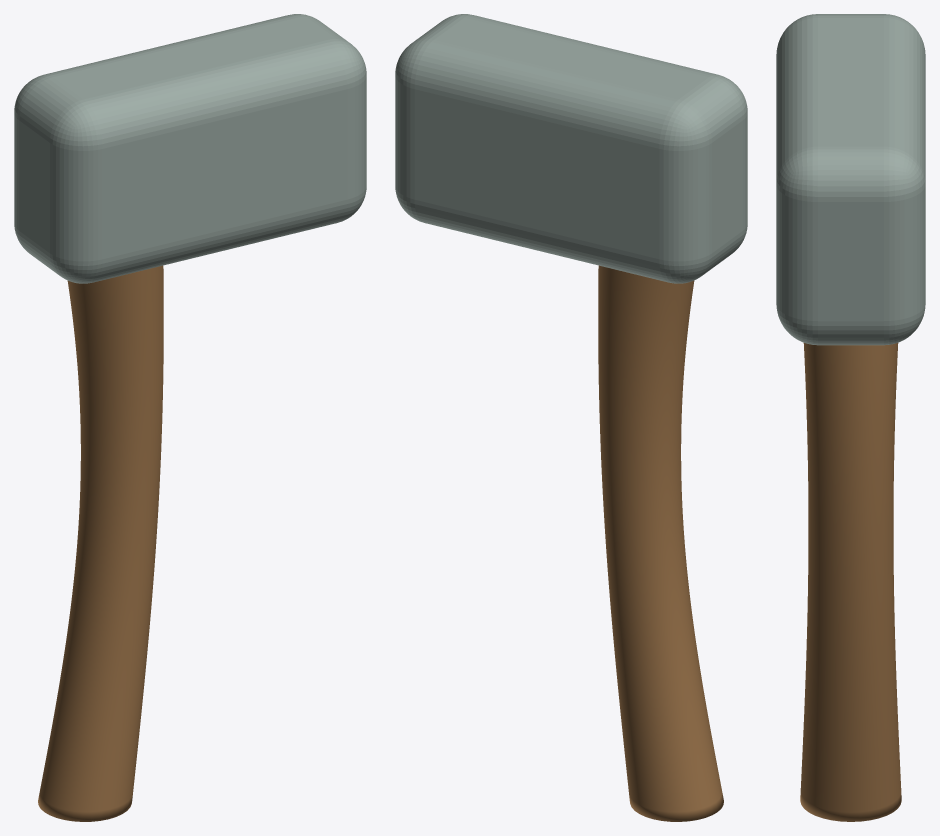
The model's file is direct-7000.glb.
3 views of the same model, side by side, from view 1: azimuth 30°, elevation 25°; view 2: azimuth 150°, elevation 25°; view 3: azimuth 270°, elevation 25° (orthographic). The views are drawn at different scales.
Visible parts, largest first — view 1: Cube.001, Handle.001; view 2: Cube.001, Handle.001; view 3: Cube.001, Handle.001.
Boxes of the visible parts, x1=… form: Cube.001: x1=14, y1=14, x2=366, y2=283; Handle.001: x1=38, y1=265, x2=163, y2=821; Cube.001: x1=395, y1=14, x2=747, y2=283; Handle.001: x1=598, y1=265, x2=723, y2=821; Cube.001: x1=776, y1=14, x2=925, y2=345; Handle.001: x1=800, y1=343, x2=901, y2=821.
Size of the model in its own units: 0.65 by 1.43 by 0.25.
